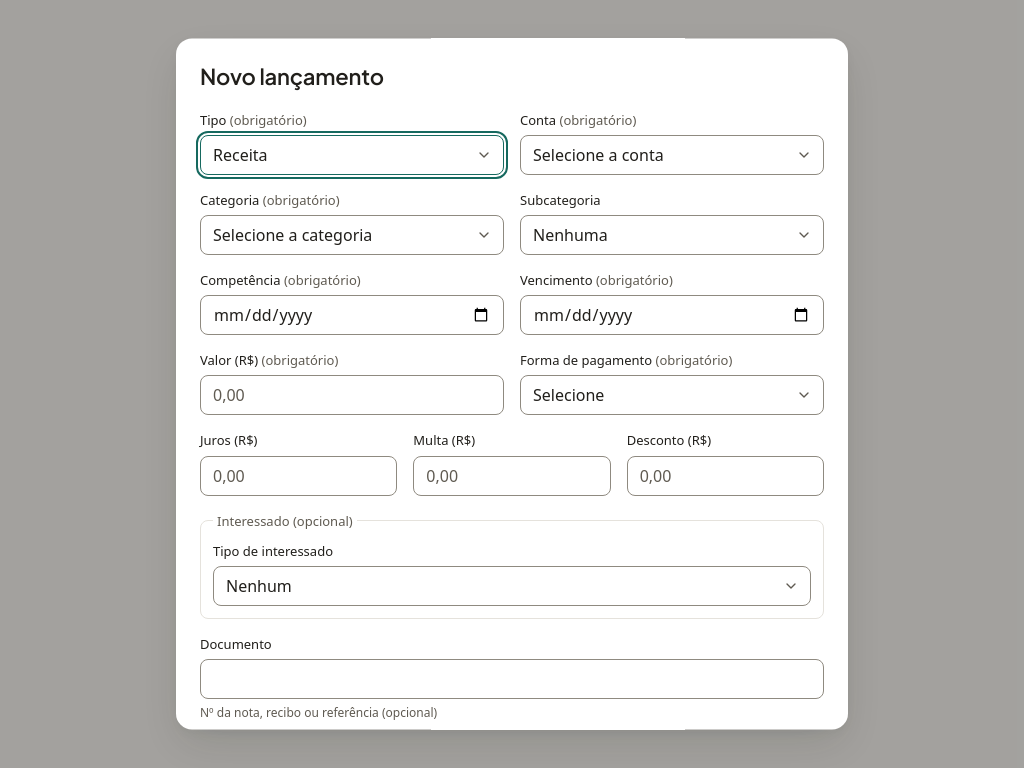
Test: Formulário de lançamento — a recusa do servidor pousa no campo › deve exibir o 422 de valor no próprio campo valor
Type "2026-07-01" into the date field labelled "Competência (obrigatório)" at (352,316), box [200,296,504,336]
Type "2026-07-10" into the date field labelled "Vencimento (obrigatório)" at (672,316), box [520,296,824,336]
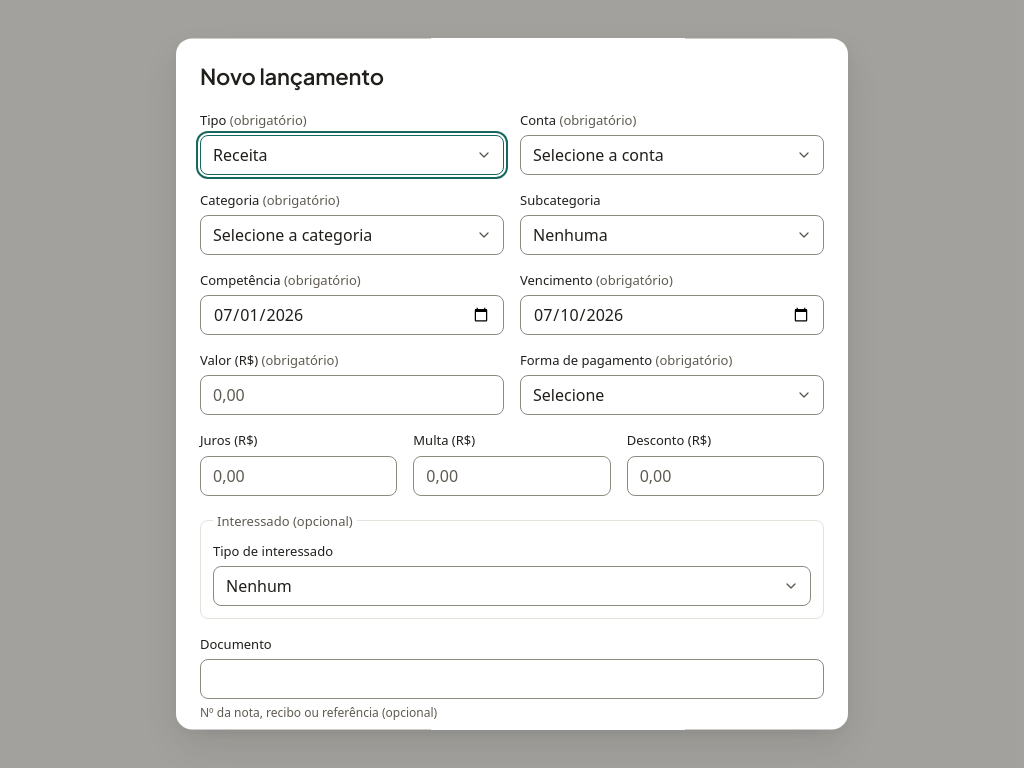
Select "Caixa" in the dropdown labelled "Conta (obrigatório)" at (672,155), box [520,135,824,175]
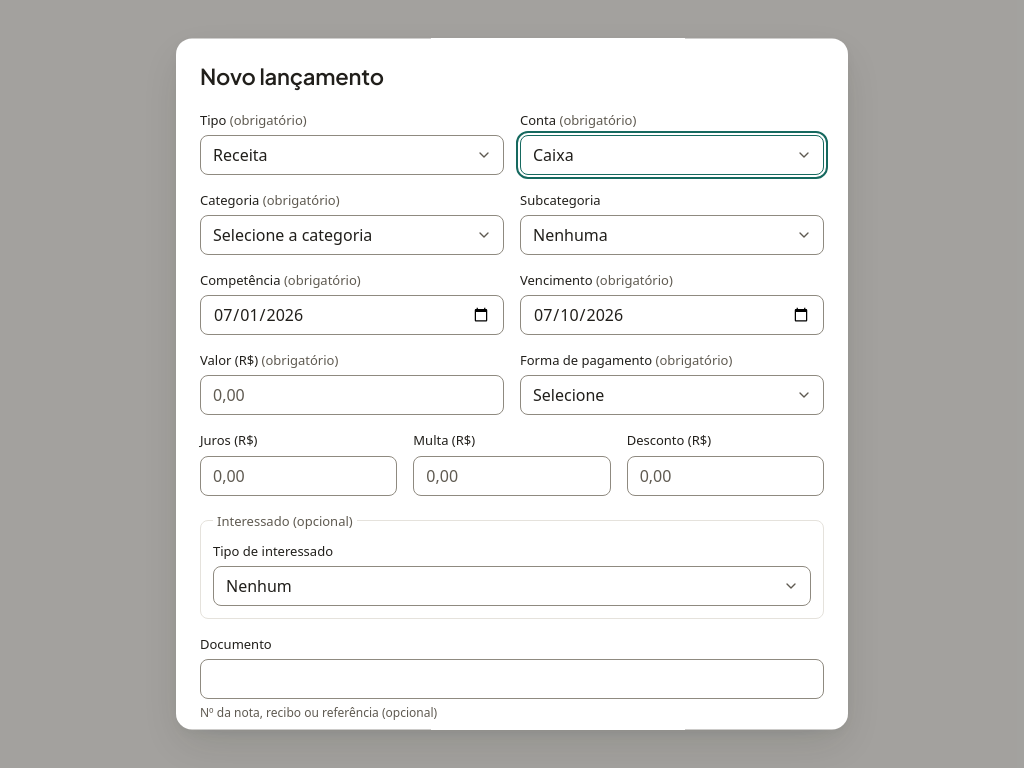
Select "Sessões" in the dropdown labelled "Categoria (obrigatório)" at (352,235), box [200,215,504,255]
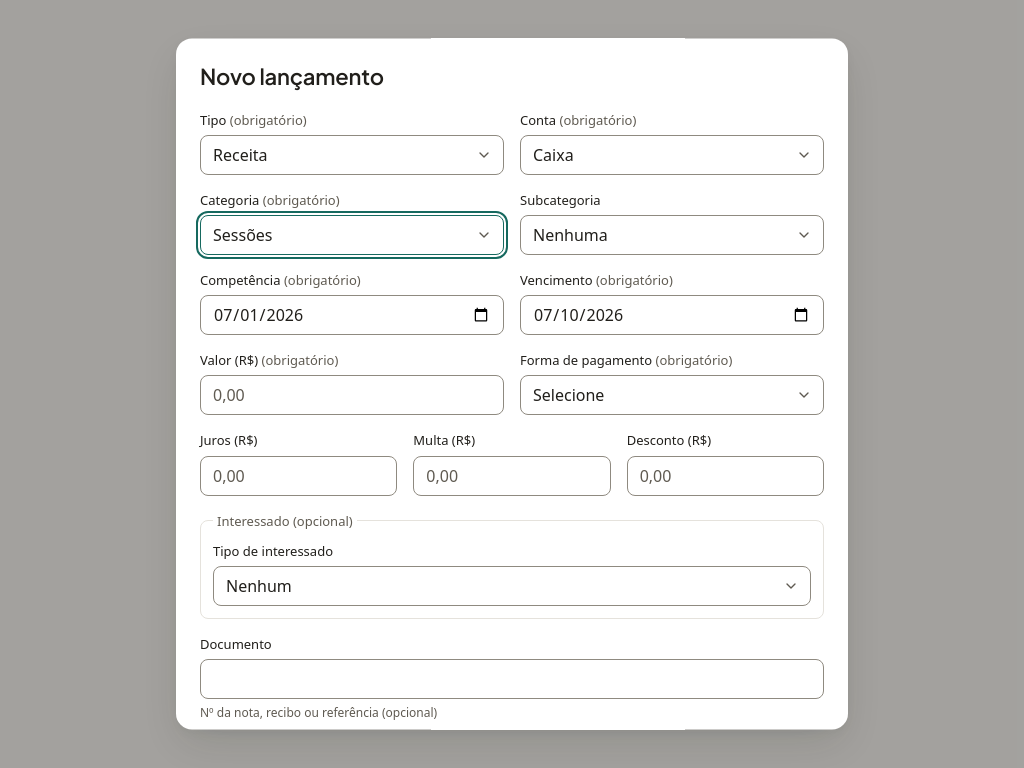
Select "PIX" in the dropdown labelled "Forma de pagamento (obrigatório)" at (672,396), box [520,376,824,416]
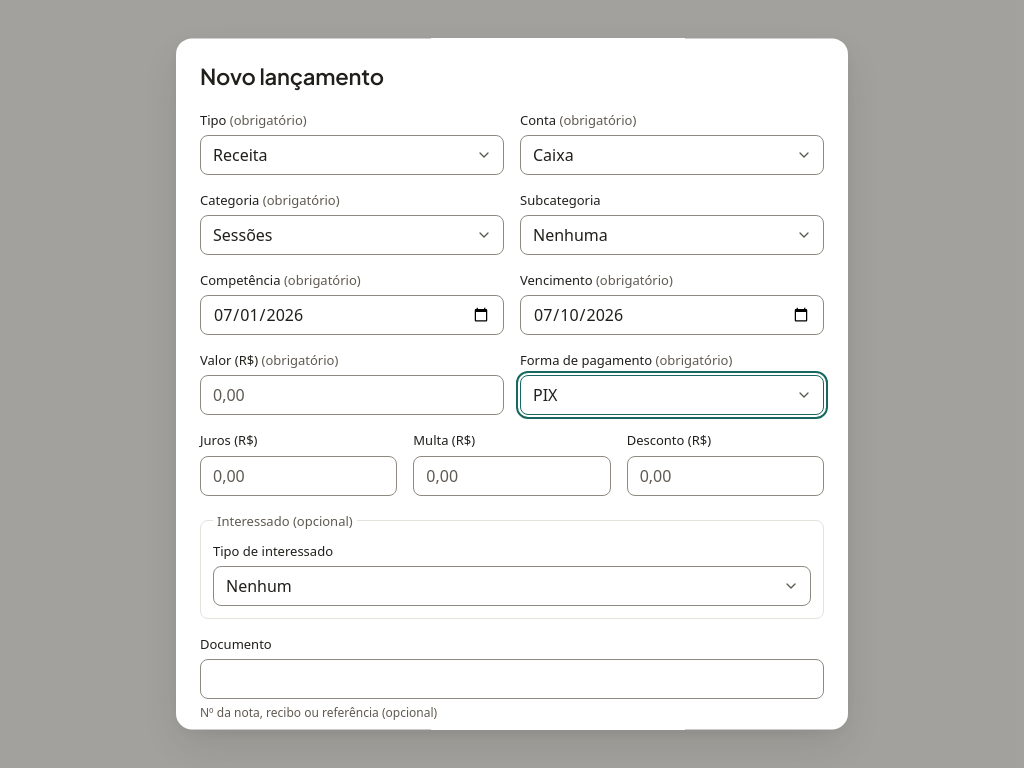
Type "150.999" into the field labelled "Valor (R$) (obrigatório)" at (352,396), box [200,376,504,416]
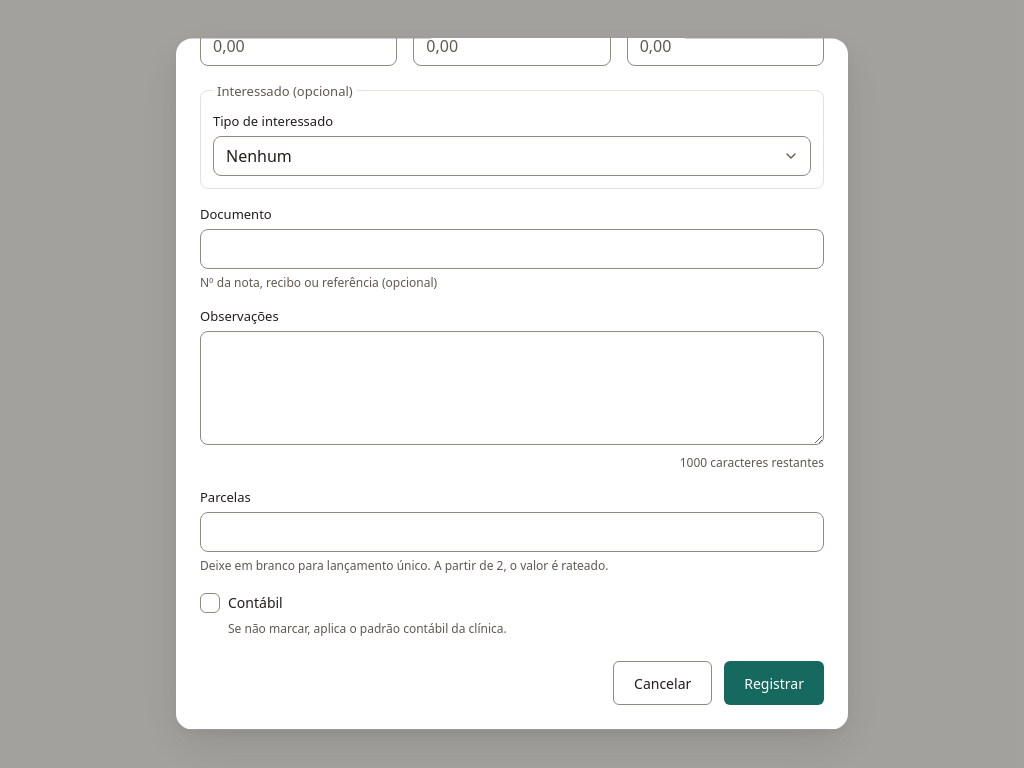
Click the button "Registrar" at (774,684), box [724,662,824,706]
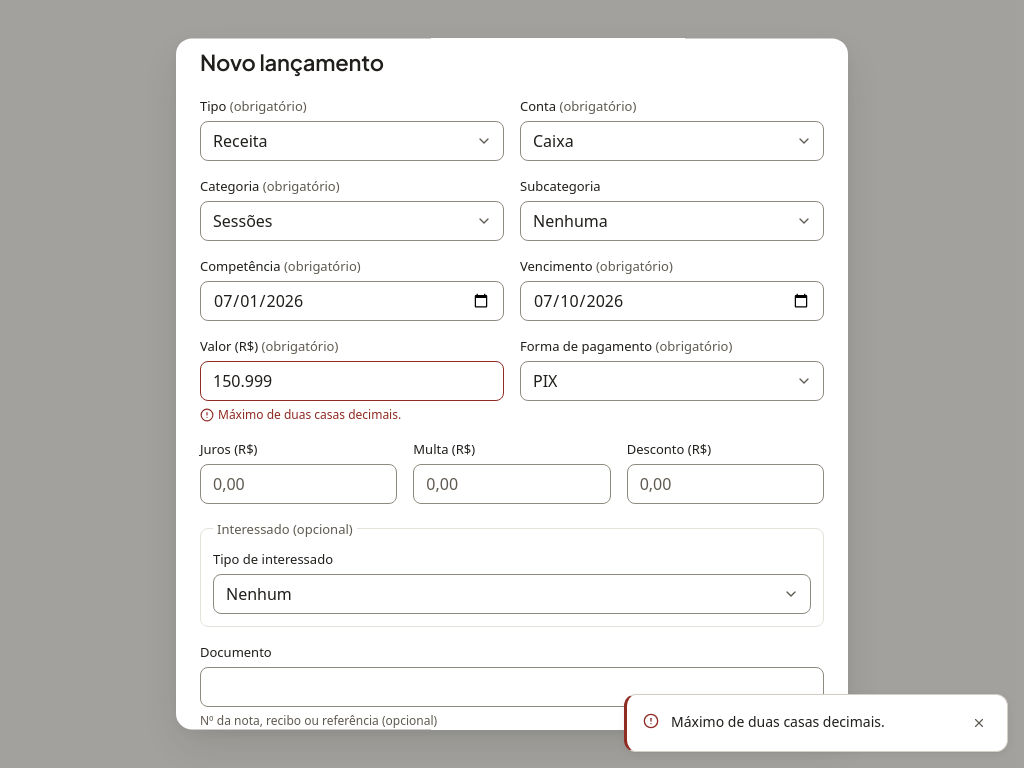
Expected: the text "Máximo de duas casas decimais." is shown, [200,407,401,424]
